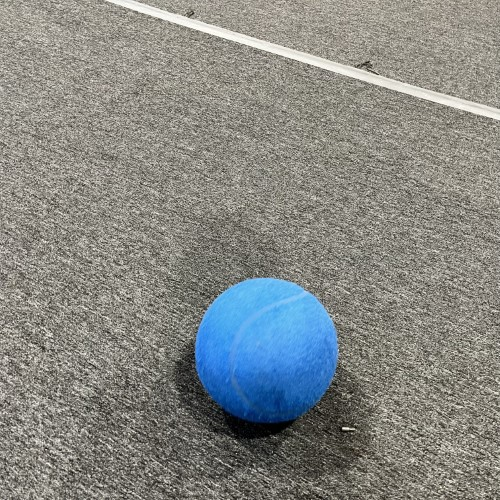blue: (192, 275, 340, 424)
